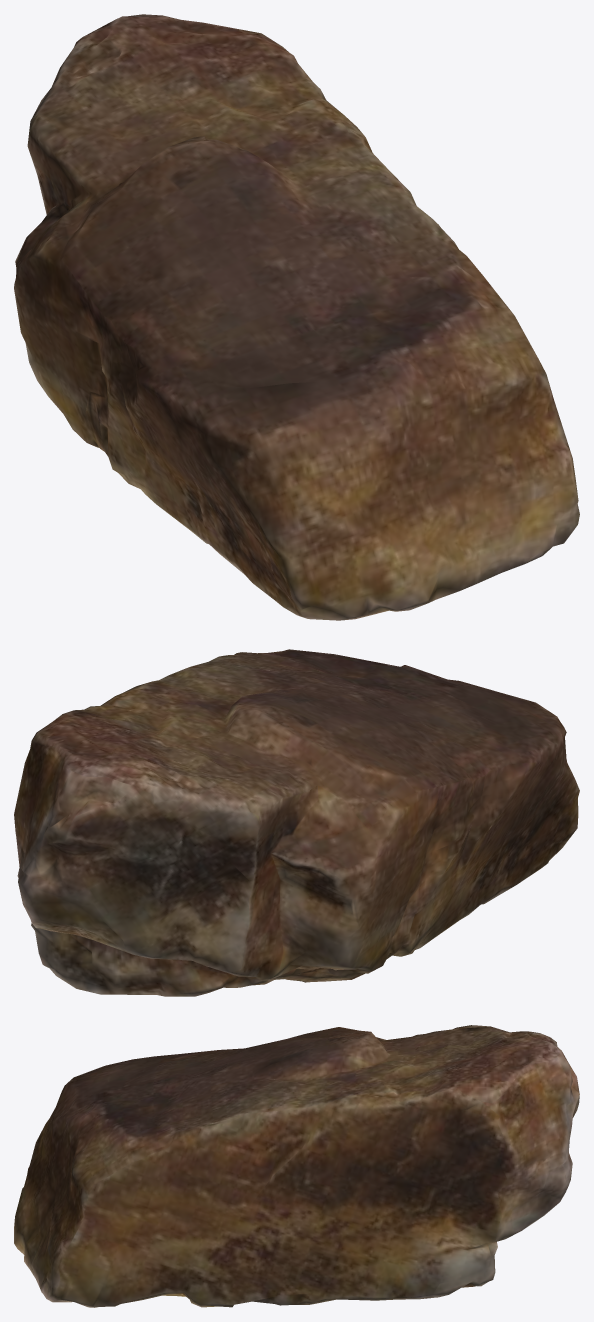
File: rock_07.glb
3 views of the same model, one above another, from view 1: azimuth 30°, elevation 25°; view 2: azimuth 150°, elevation 25°; view 3: azimuth 270°, elevation 25° (orthographic). The views are drawn at different scales.
Parts seen in each view (by area): view 1: rock_07; view 2: rock_07; view 3: rock_07.
Part boxes in pixels (<box>): rock_07: <box>14,14,579,620</box>; rock_07: <box>14,649,579,996</box>; rock_07: <box>14,1025,579,1307</box>.
Bounding box in the file's own units: 0.1681 × 0.1437 × 0.3199.
Materials: 1 (1 with a texture image).
